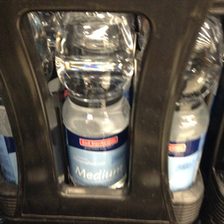water: (54, 12, 130, 188)
